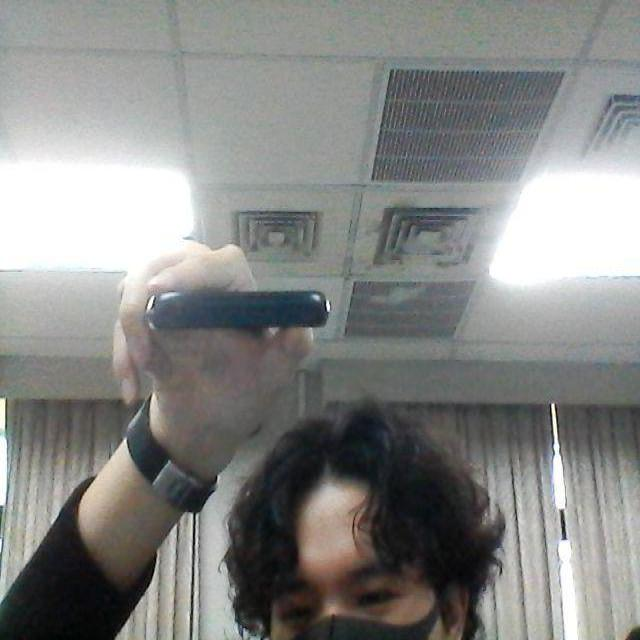mobile: (141, 274, 331, 342)
